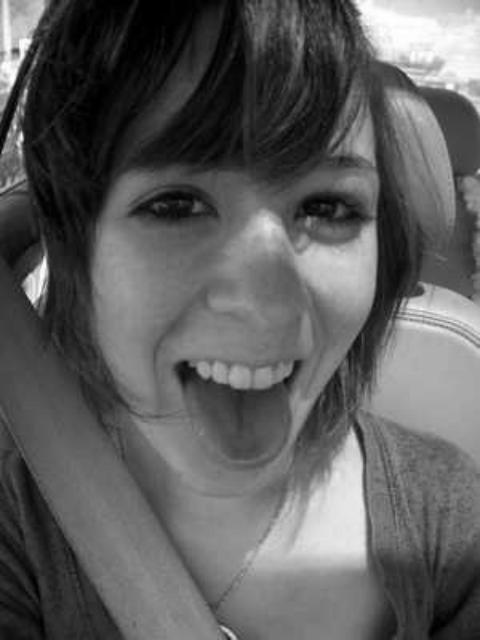SafeDriving: (116, 158, 240, 241), (275, 168, 382, 250)
Seatbelt: (0, 246, 236, 640)
